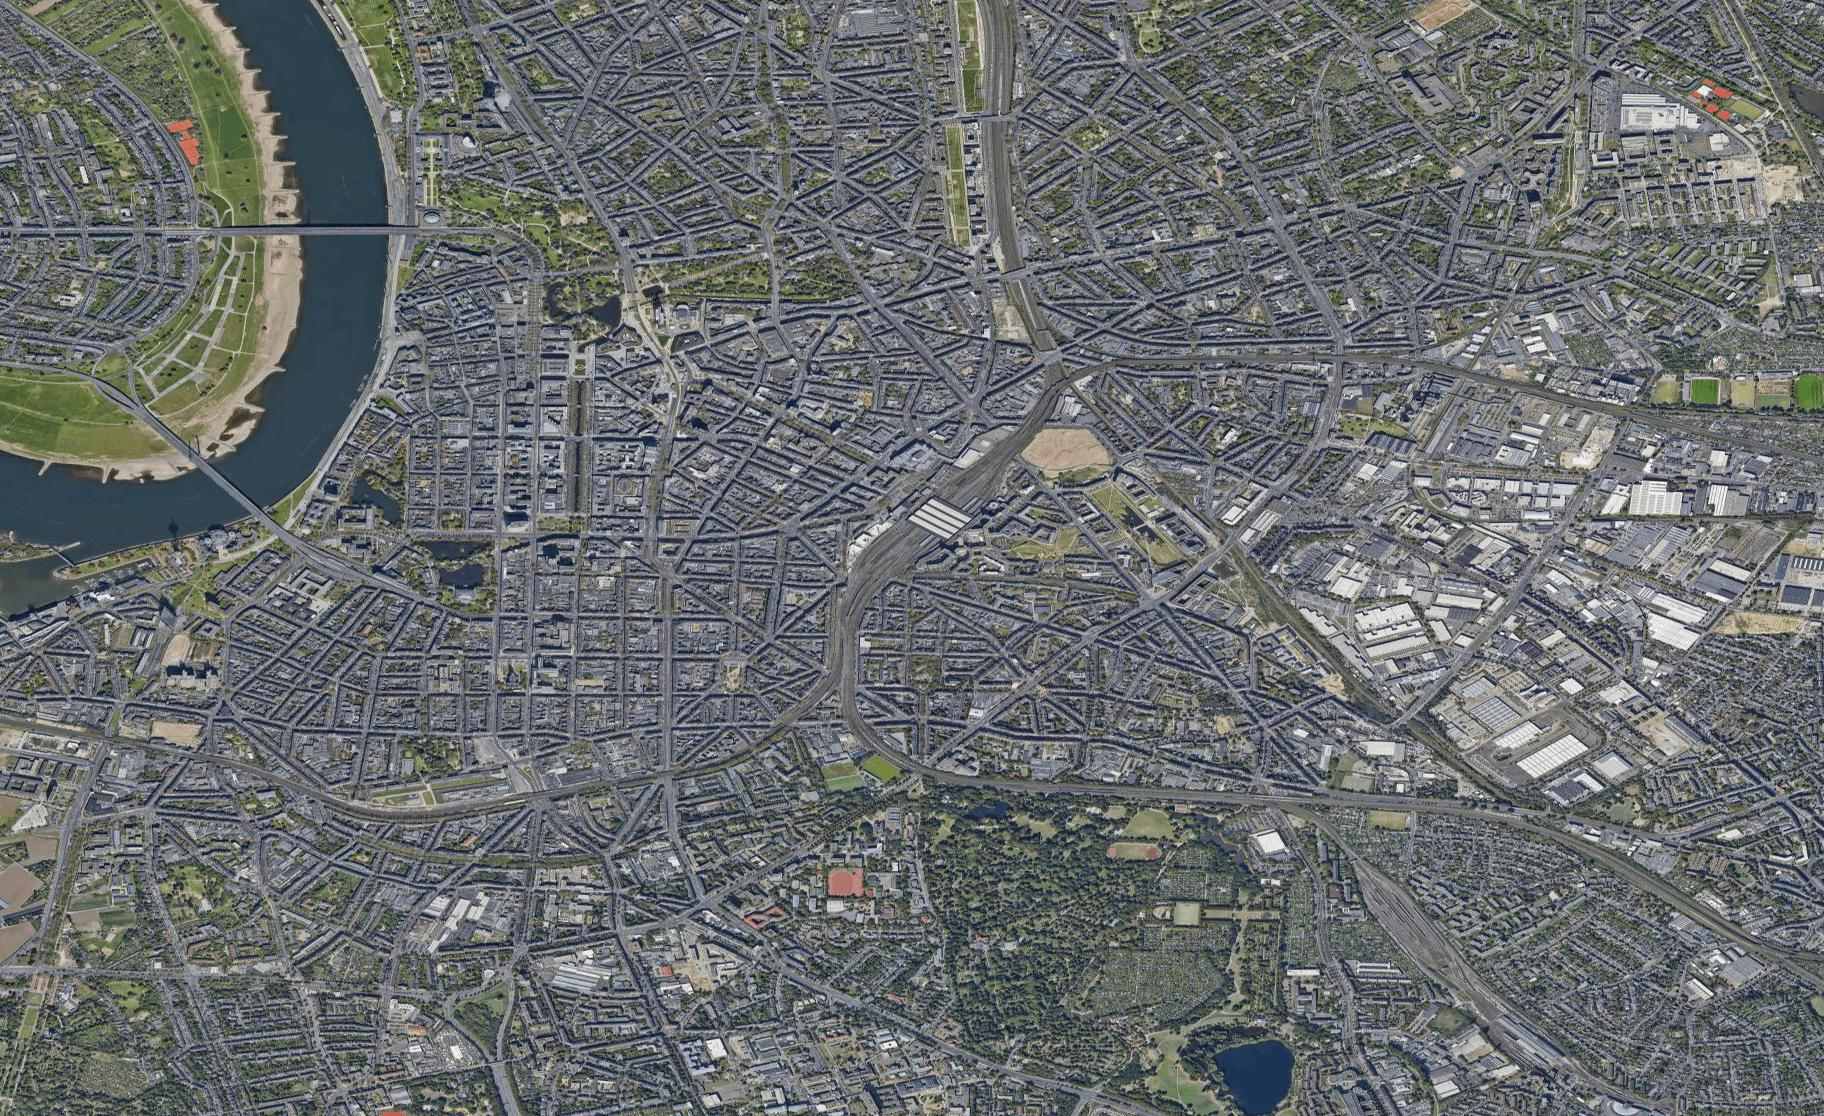bridge: (180, 452, 275, 531), (291, 220, 393, 244)
train_station: (890, 484, 988, 570)
